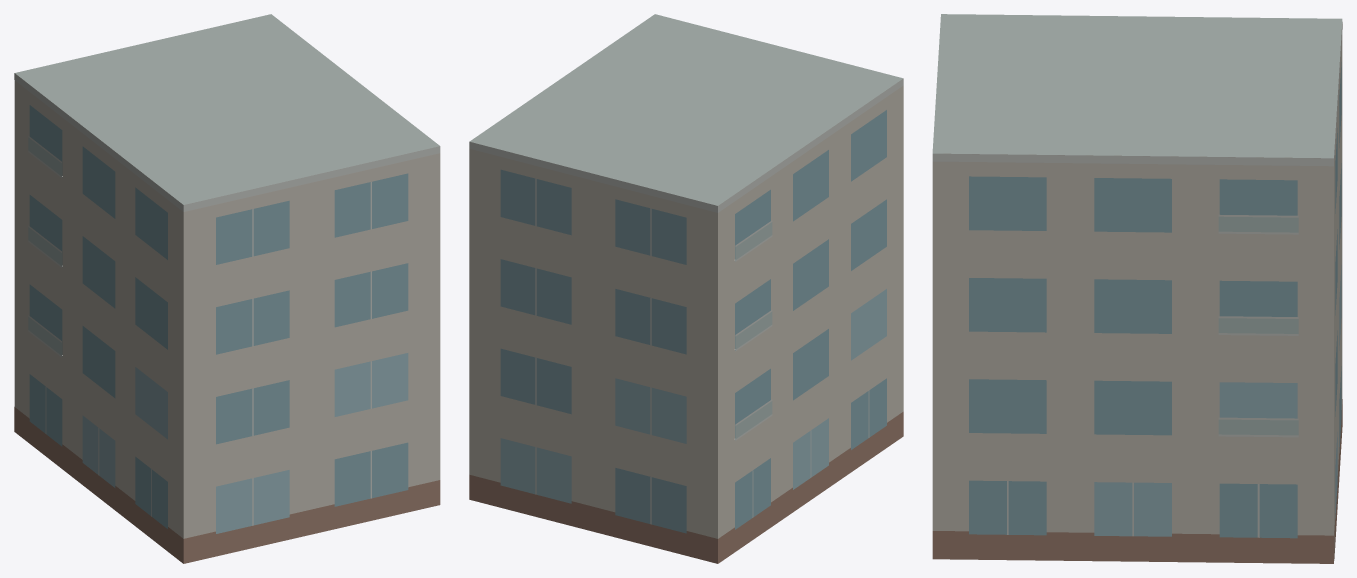
Rendered from survey-upis-32858318.glb.
3 views of the same model, side by side, from view 1: azimuth 30°, elevation 25°; view 2: azimuth 150°, elevation 25°; view 3: azimuth 270°, elevation 25° (orthographic). The views are drawn at different scales.
Parts seen in each view (by area): view 1: survey-upis-32858318.tmp; view 2: survey-upis-32858318.tmp; view 3: survey-upis-32858318.tmp.
Part boxes in pixels (x1,y1,x2,y2): survey-upis-32858318.tmp: (14,14,440,563); survey-upis-32858318.tmp: (469,14,903,563); survey-upis-32858318.tmp: (932,14,1342,563).
Bounding box in the file's own units: 9.51 × 12.45 × 11.42.
